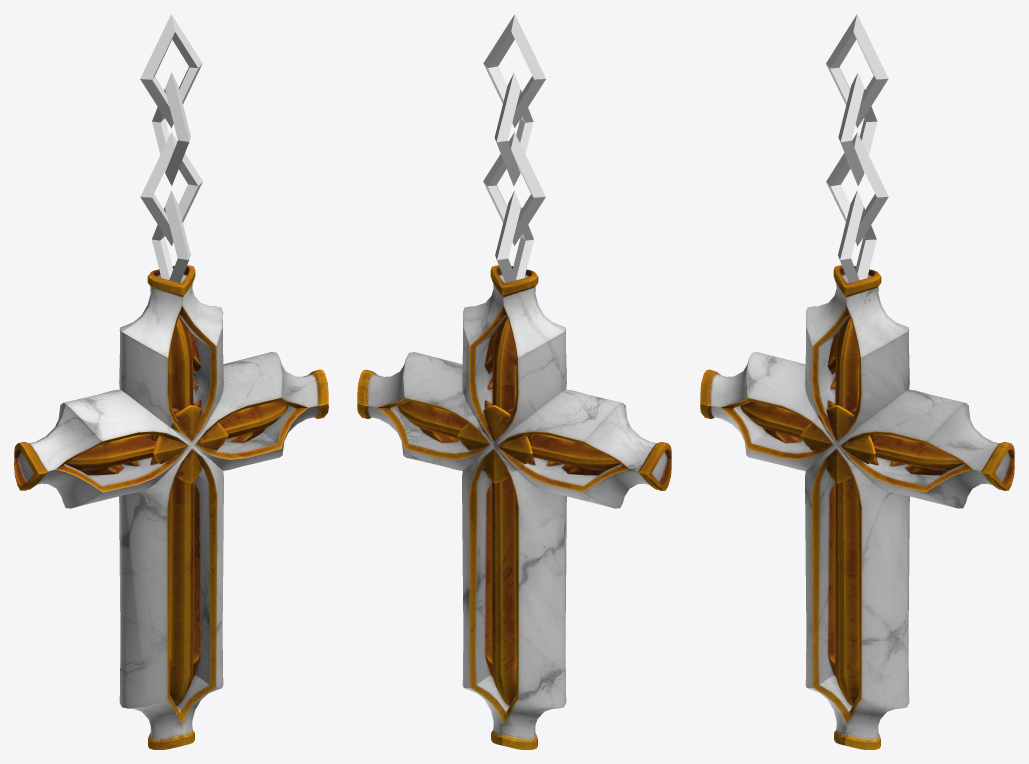
The model's file is Zephyros 4.fbx.
The picture shows the model from 3 angles, left to right: view 1: azimuth 30°, elevation 25°; view 2: azimuth 150°, elevation 25°; view 3: azimuth 330°, elevation 25°; orthographic projection.
Parts seen in each view (by area): view 1: Zephyros 4; view 2: Zephyros 4; view 3: Zephyros 4.
Part boxes in pixels (bbox=[...]): Zephyros 4: bbox=[14, 14, 328, 749]; Zephyros 4: bbox=[357, 14, 671, 749]; Zephyros 4: bbox=[700, 14, 1014, 749].
Size of the model in its own units: 4.37 by 1.04 by 10.02.
1 material, 1 textured.
